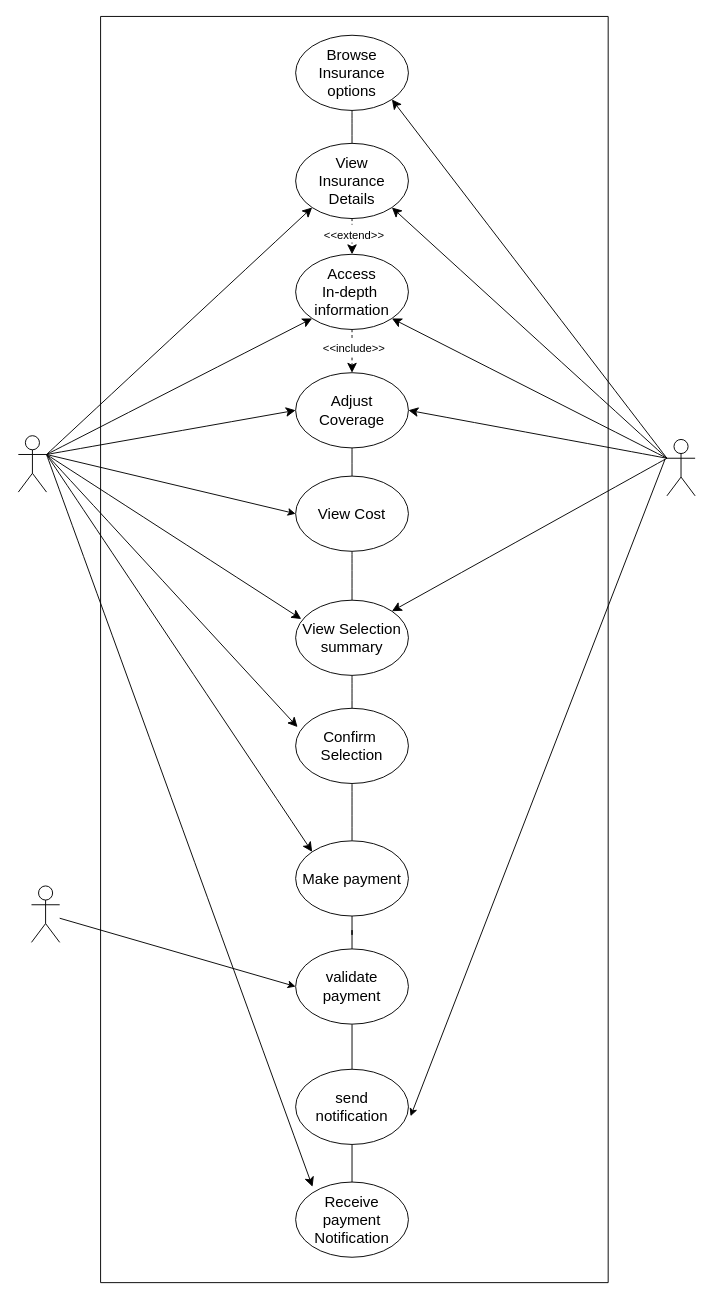
The diagram is 722 pixels wide and 1299 high, and some of its shapes have lost their labels. Each missing label, with the centre of its shape:
Payment Gateway: the point at 45,913
System: the point at 680,467
User: the point at 32,463
